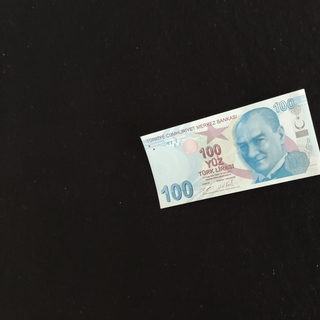100TLFront: (140, 88, 320, 209)
